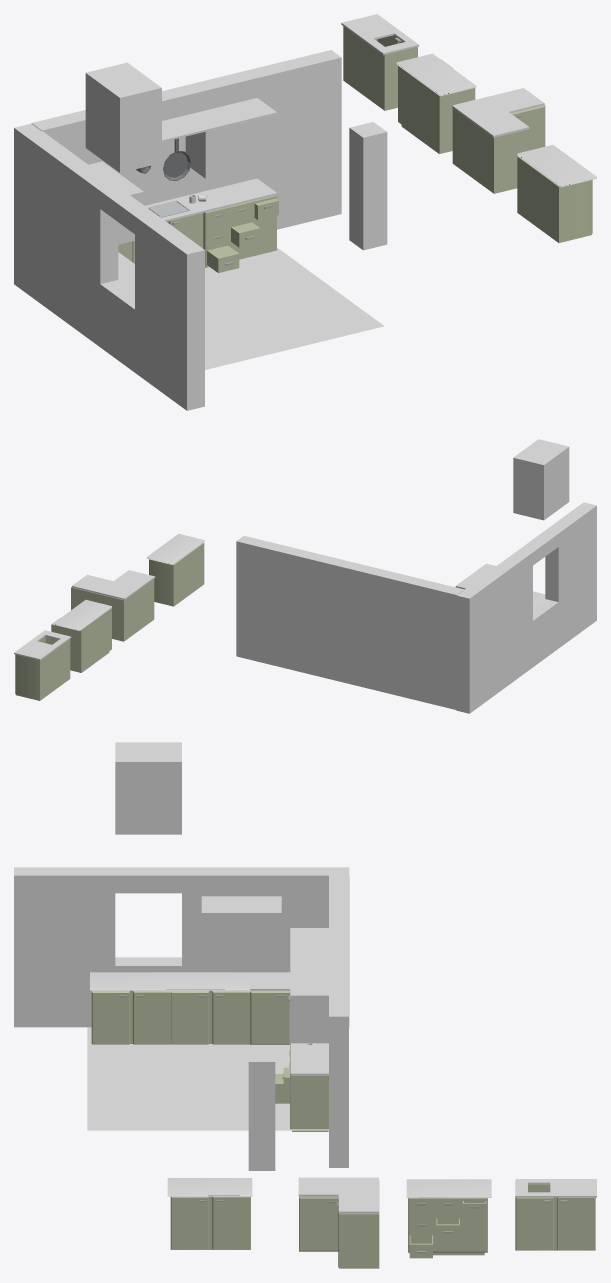
File: kitchen (1).fbx
3 views of the same model, one above another, from view 1: azimuth 30°, elevation 25°; view 2: azimuth 150°, elevation 25°; view 3: azimuth 270°, elevation 25° (orthographic). The views are drawn at different scales.
Visible parts, largest first — view 1: Cube, Cube.001, Ground, Cube.012, Cube.009, Cube.005, Cabinet with drawers, Cube.008, Cube.004, Cabinet with drawers.001, Cube.014, Cube.011 (+8 smaller); view 2: Cube.001, Cube, Cube.012, Cube.014, Cube.009, Cube.008, Cabinet with drawers.001, Cube.011, Woodboard for Cab3.001, Woodboard for Cab3.002, Woodboard for Cab2.001; view 3: Cube, Ground, Cube.012, Cube.001, Cube.013, Cabinet with drawers.001, Cube.014, Cube.009, Cube.003, Cube.002, Cube.008, Cube.005 (+11 smaller).
Boxes of the visible parts, x1,y1,x2,y2 form: Cube: (14, 123, 204, 410); Cube.001: (31, 50, 341, 229); Ground: (205, 247, 384, 369); Cube.012: (85, 62, 161, 172); Cube.009: (452, 105, 545, 193); Cube.005: (349, 122, 387, 250); Cabinet with drawers: (203, 195, 278, 272); Cube.008: (517, 156, 592, 242); Cube.004: (185, 114, 277, 178); Cabinet with drawers.001: (398, 59, 475, 153); Cube.014: (343, 26, 417, 110); Cube.011: (452, 88, 544, 137); Cube.001: (236, 535, 464, 709); Cube: (456, 502, 596, 713); Cube.012: (513, 439, 569, 520); Cube.014: (15, 636, 70, 700); Cube.009: (71, 579, 154, 641); Cube.008: (149, 542, 204, 606); Cabinet with drawers.001: (51, 608, 111, 672); Cube.011: (72, 570, 155, 599); Woodboard for Cab3.001: (146, 533, 204, 564); Woodboard for Cab3.002: (53, 599, 111, 630); Woodboard for Cab2.001: (14, 630, 71, 660); Cube: (14, 867, 349, 1027); Ground: (87, 1027, 328, 1130); Cube.012: (115, 742, 181, 834); Cube.001: (329, 875, 348, 1167); Cube.013: (201, 896, 281, 958); Cabinet with drawers.001: (408, 1198, 487, 1258); Cube.014: (515, 1181, 595, 1250); Cube.009: (299, 1180, 379, 1268); Cube.003: (91, 990, 171, 1044); Cube.002: (171, 990, 250, 1044); Cube.008: (170, 1196, 250, 1249); Cube.005: (248, 1050, 275, 1170).
Size of the model in its own units: 904 by 453 by 872.
